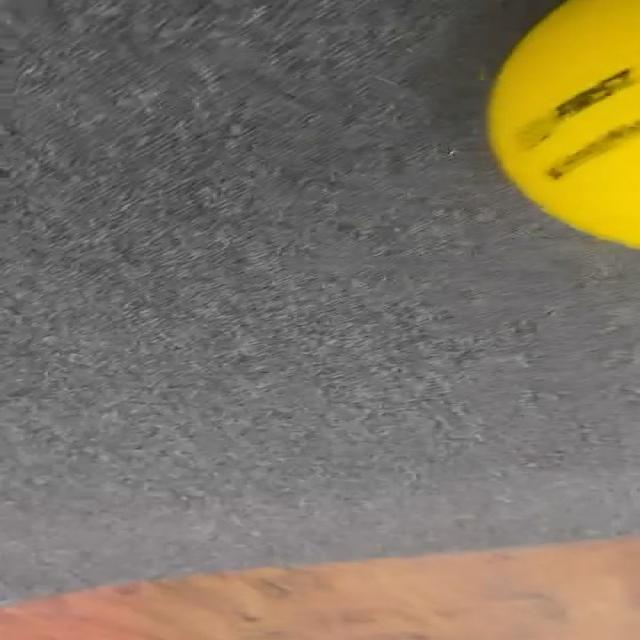Fuels: (485, 0, 638, 248)
